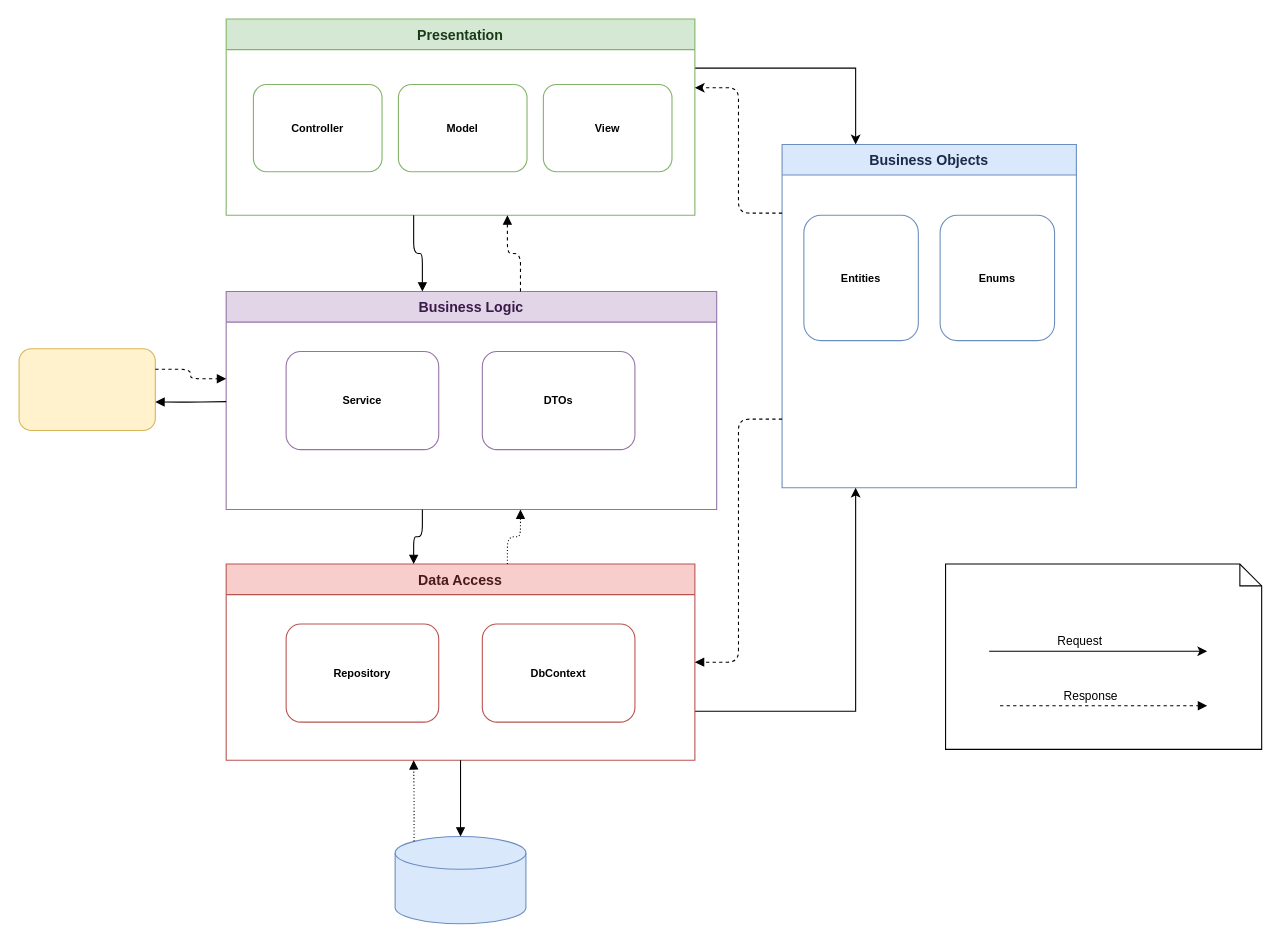
Image size: 1281x943. Some labels were removed from this diagram. The centre of each missing label's shape, as x and y in pixels:
AI Service: [86,389]
DB: [460,879]
Note: [1103,656]
